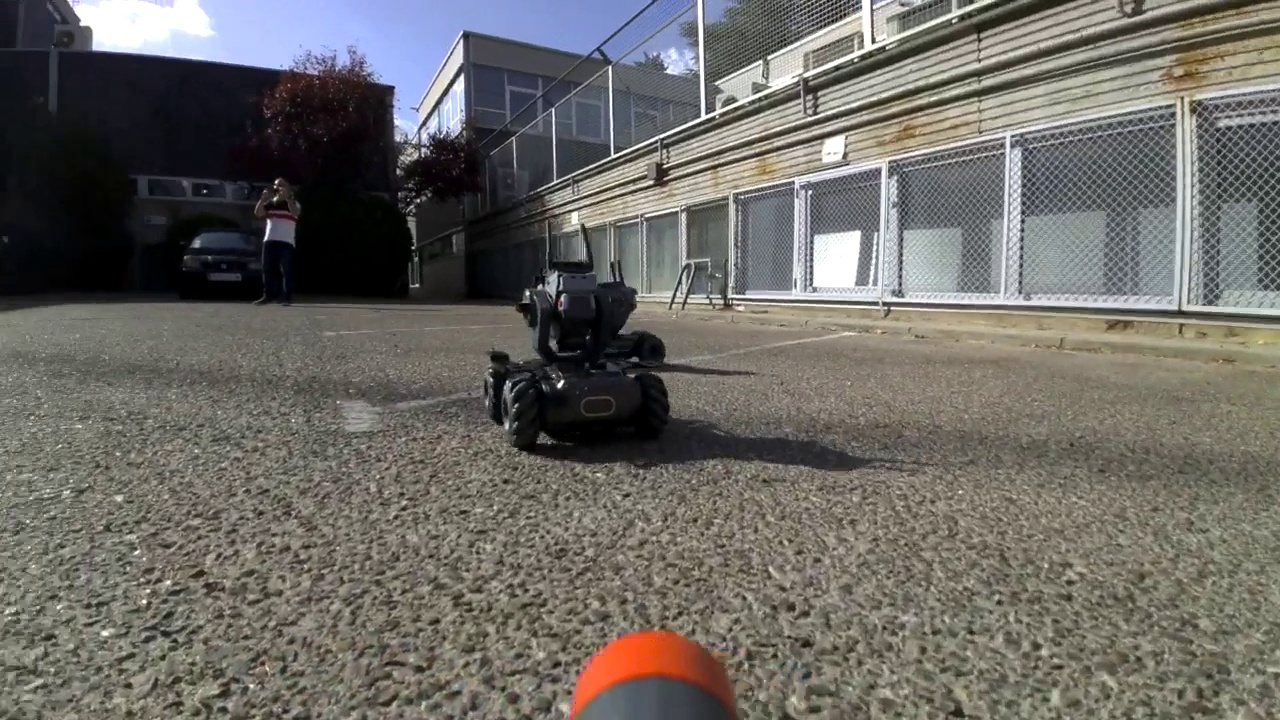robot: (482, 220, 673, 458), (589, 257, 668, 371)
